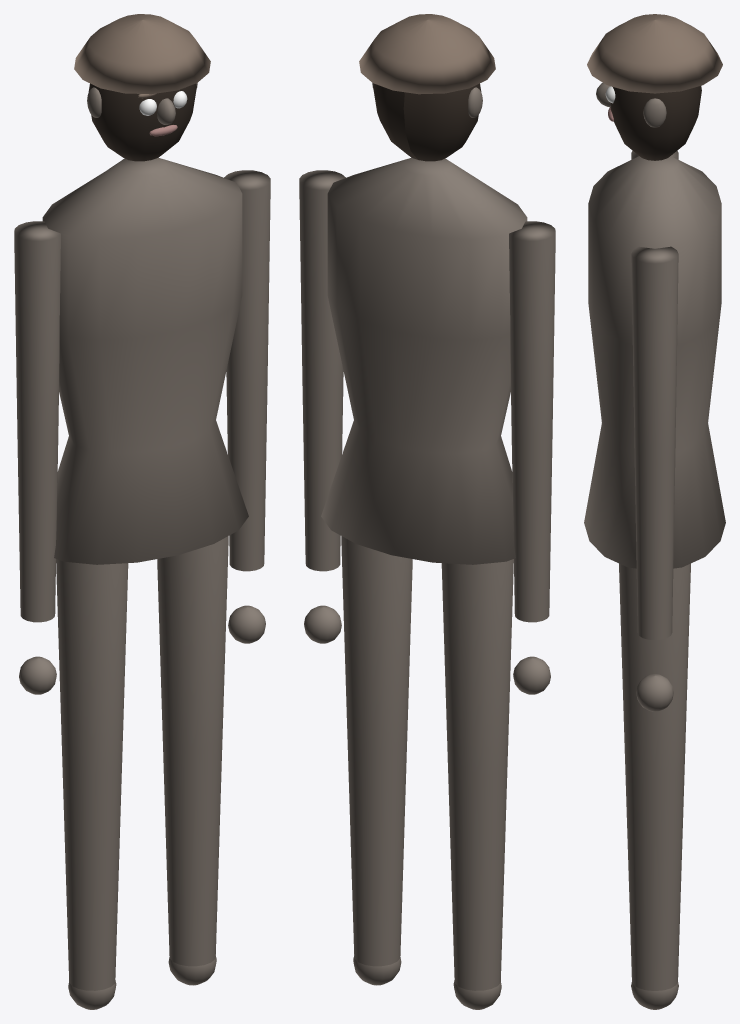
File: avatar_mesh.glb
3 renders of one model, left to right at view 1: azimuth 30°, elevation 25°; view 2: azimuth 150°, elevation 25°; view 3: azimuth 270°, elevation 25°, orthographic.
Parts seen in each view (by area): view 1: avatar; view 2: avatar; view 3: avatar.
Boxes of the visible parts, x1,y1,x2,y2 form: avatar: [14, 14, 270, 1009]; avatar: [299, 14, 555, 1009]; avatar: [584, 14, 725, 1009].
Size of the model in its own units: 0.4284 by 1.59 by 0.2127.
6 materials, 1 textured.
